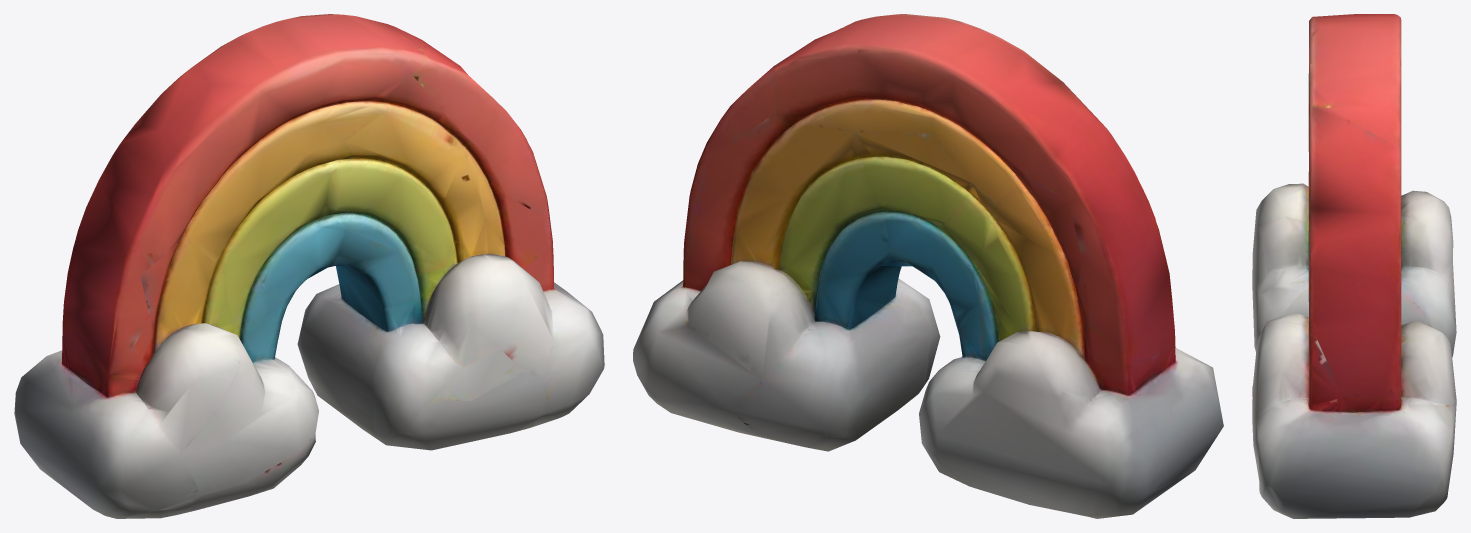
Rendered from rainbow_pbr.glb.
3 renders of one model, left to right at view 1: azimuth 30°, elevation 25°; view 2: azimuth 150°, elevation 25°; view 3: azimuth 270°, elevation 25°, orthographic. The views are drawn at different scales.
Visible parts, largest first — view 1: model.014; view 2: model.014; view 3: model.014.
Part boxes in pixels (<box>): model.014: <box>14,14,604,518</box>; model.014: <box>633,14,1223,518</box>; model.014: <box>1252,14,1456,518</box>.
Bounding box in the file's own units: 1.86 × 1.45 × 0.6885.
Materials: 1 (1 with a texture image).
